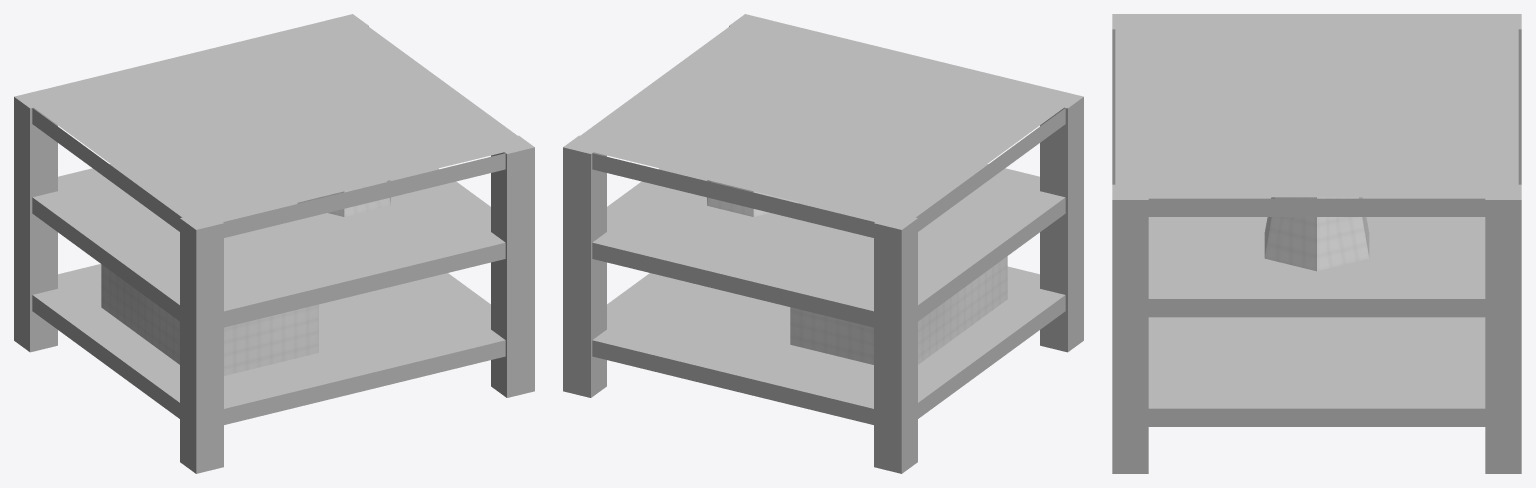
Rendered from shelf_small.obj.
The picture shows the model from 3 angles, left to right: view 1: azimuth 30°, elevation 25°; view 2: azimuth 150°, elevation 25°; view 3: azimuth 270°, elevation 25°; orthographic projection. The views are drawn at different scales.
Visible parts, largest first — view 1: shelf_small; view 2: shelf_small; view 3: shelf_small.
Boxes of the visible parts, x1=… form: shelf_small: x1=14, y1=14, x2=534, y2=473; shelf_small: x1=563, y1=14, x2=1083, y2=473; shelf_small: x1=1112, y1=14, x2=1521, y2=473.
Bounding box in the file's own units: 0.872 × 0.603 × 0.812.
